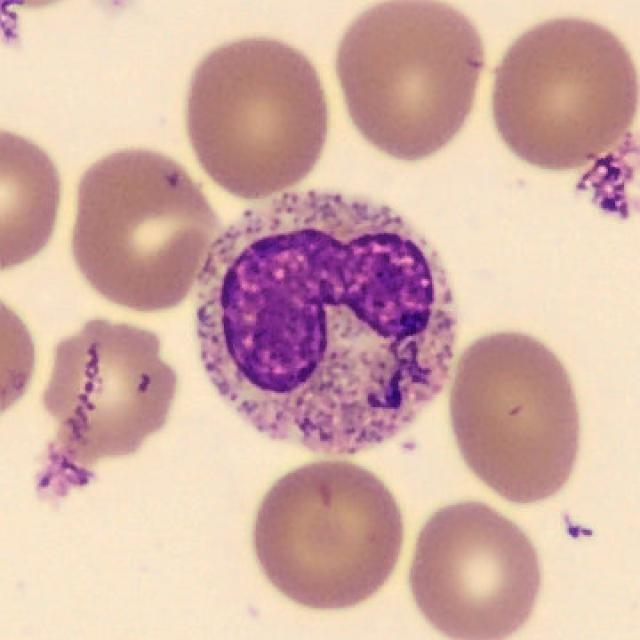Neutrofilo segmentado: (194, 192, 459, 457)
